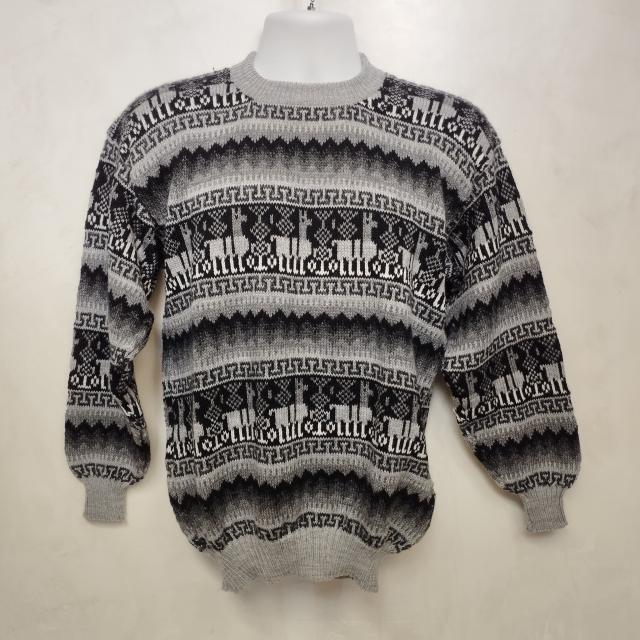Chompa: (64, 7, 581, 595)
